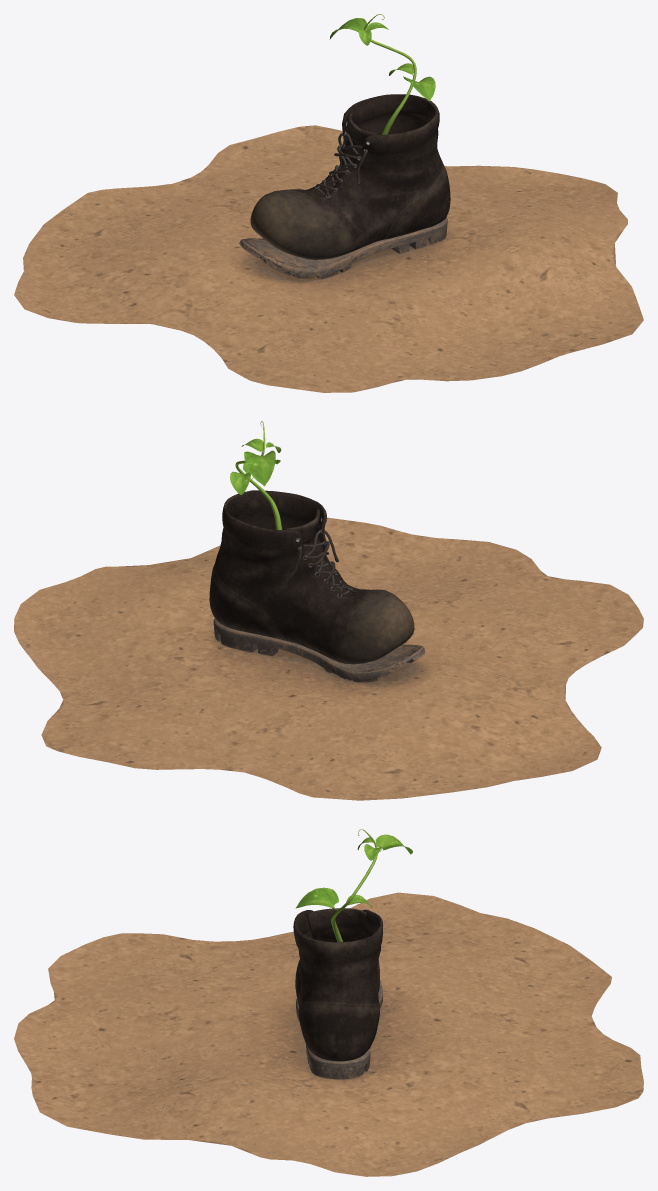
File: walle_boot.glb
3 views of the same model, one above another, from view 1: azimuth 30°, elevation 25°; view 2: azimuth 150°, elevation 25°; view 3: azimuth 270°, elevation 25° (orthographic). The views are drawn at different scales.
Visible parts, largest first — view 1: wall-e boot plants_uv_checker_material_uv_grid_2048x2048_0; view 2: wall-e boot plants_uv_checker_material_uv_grid_2048x2048_0; view 3: wall-e boot plants_uv_checker_material_uv_grid_2048x2048_0.
Boxes of the visible parts, x1,y1,x2,y2 form: wall-e boot plants_uv_checker_material_uv_grid_2048x2048_0: (14,14,643,392); wall-e boot plants_uv_checker_material_uv_grid_2048x2048_0: (14,421,643,800); wall-e boot plants_uv_checker_material_uv_grid_2048x2048_0: (14,829,643,1176).
Size of the model in its own units: 0.8454 by 0.3365 by 0.7951.
Materials: 1 (1 with a texture image).
